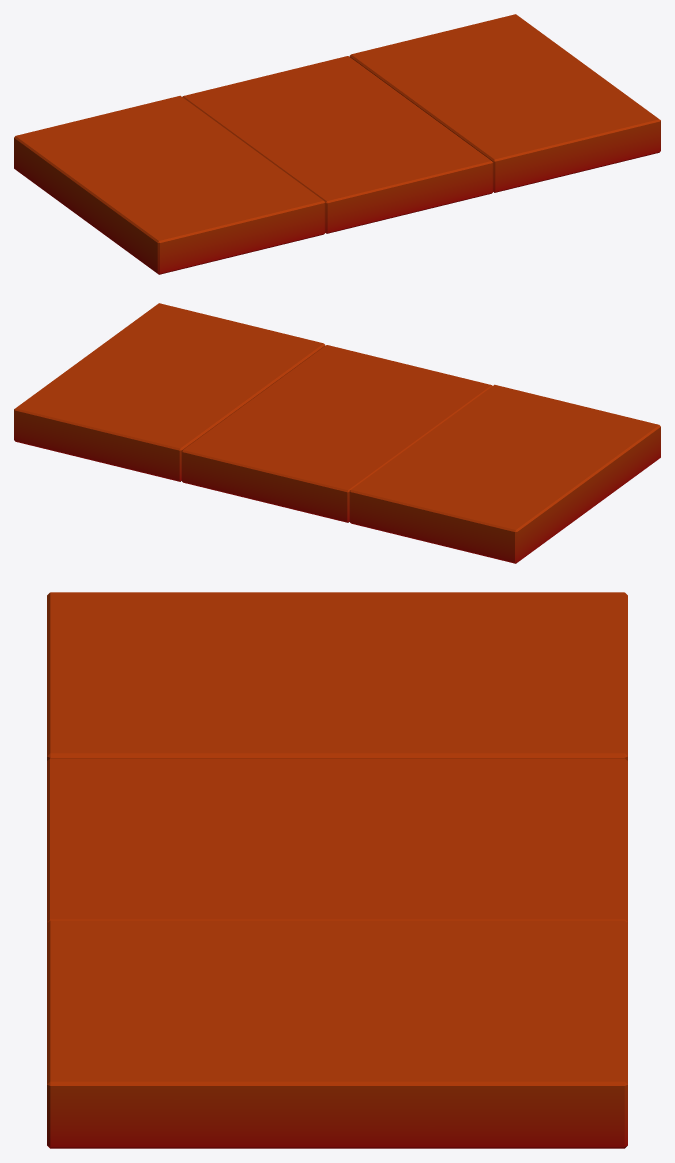
The model's file is road_stone_broken.glb.
The picture shows the model from 3 angles, top to bottom: view 1: azimuth 30°, elevation 25°; view 2: azimuth 150°, elevation 25°; view 3: azimuth 270°, elevation 25°; orthographic projection. The views are drawn at different scales.
Parts seen in each view (by area): view 1: road_stone_broken; view 2: road_stone_broken; view 3: road_stone_broken.
Part boxes in pixels (x1,y1,x2,y2): road_stone_broken: (14,14,660,274); road_stone_broken: (14,303,660,563); road_stone_broken: (47,592,627,1148).
Size of what is drawn, in the model's own units: 2 by 0.1284 by 1.
